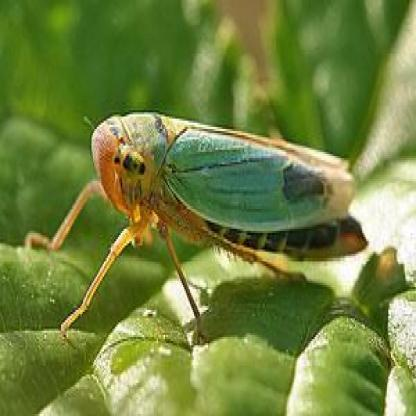Green-Leafhopper: (22, 108, 369, 350)
